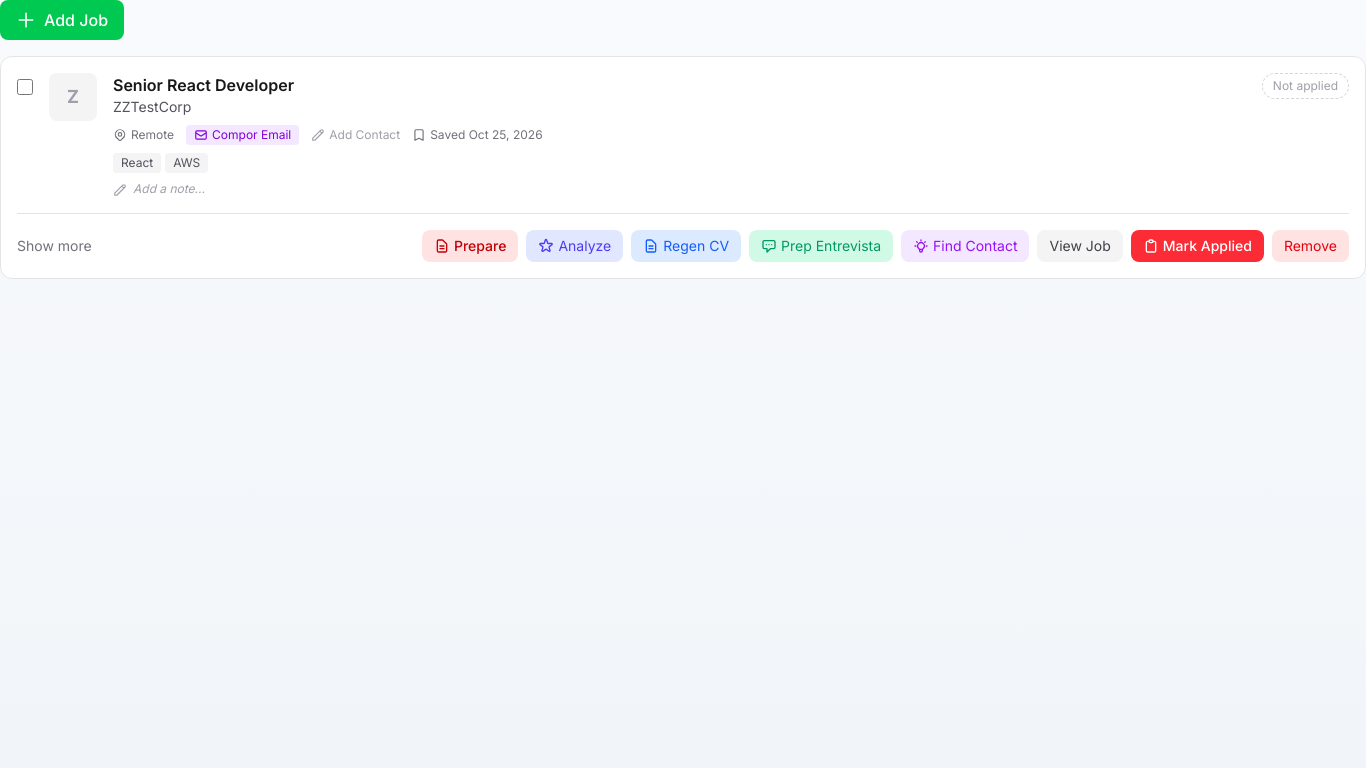
Test: SavedJobs — providedKnowledge block › renders the knowledge facts used in the tailored CV when expanded
The image size is (1366, 768).
Expected: the heading "Senior React Developer" is shown, [113,73,294,97]
// Expand the card (Show more) to reveal enriched + knowledge sections
Click the button "Show more". click: (54, 246)
box: [17,236,92,256]
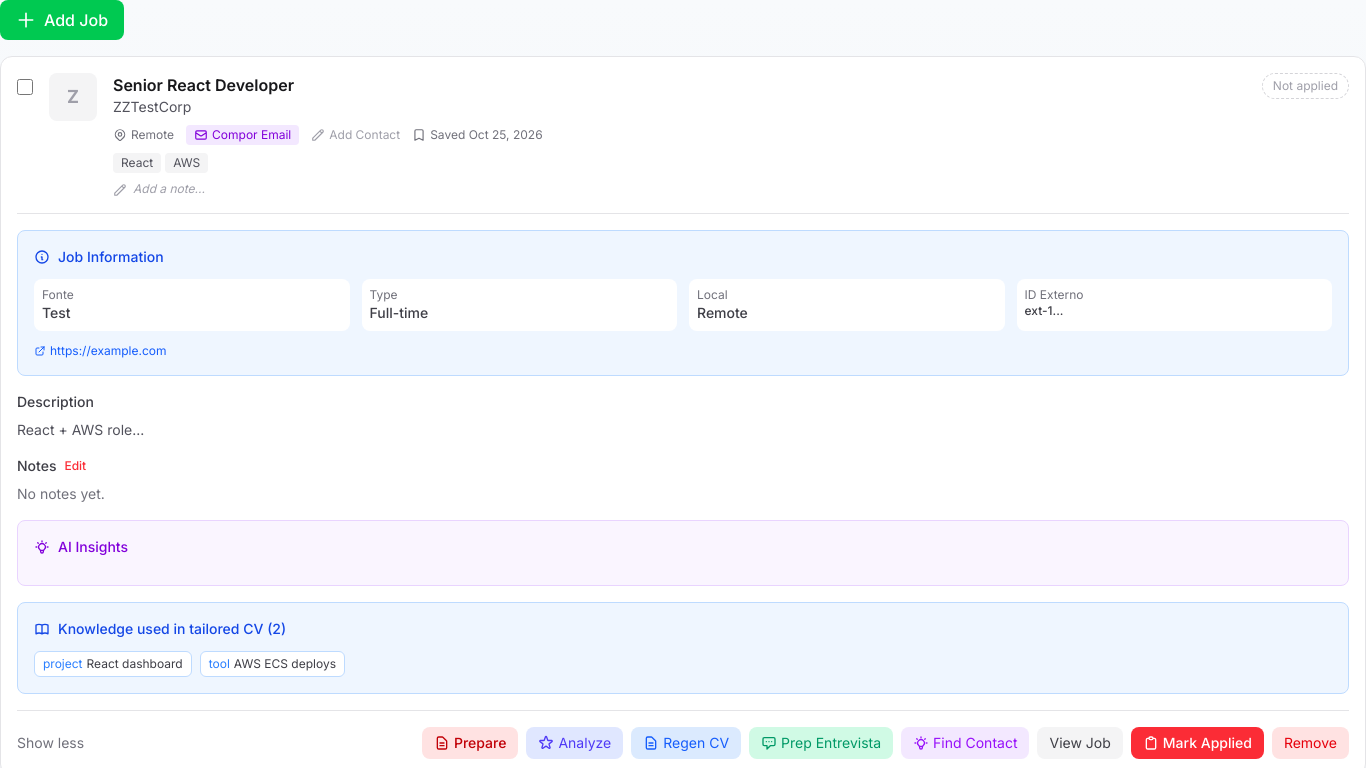
Expected: the heading "Knowledge used in tailored CV (2)" is shown, [34,620,286,637]
Expected: the text "React dashboard" is shown, [86,656,183,671]
Expected: the text "AWS ECS deploys" is shown, [234,656,336,671]
